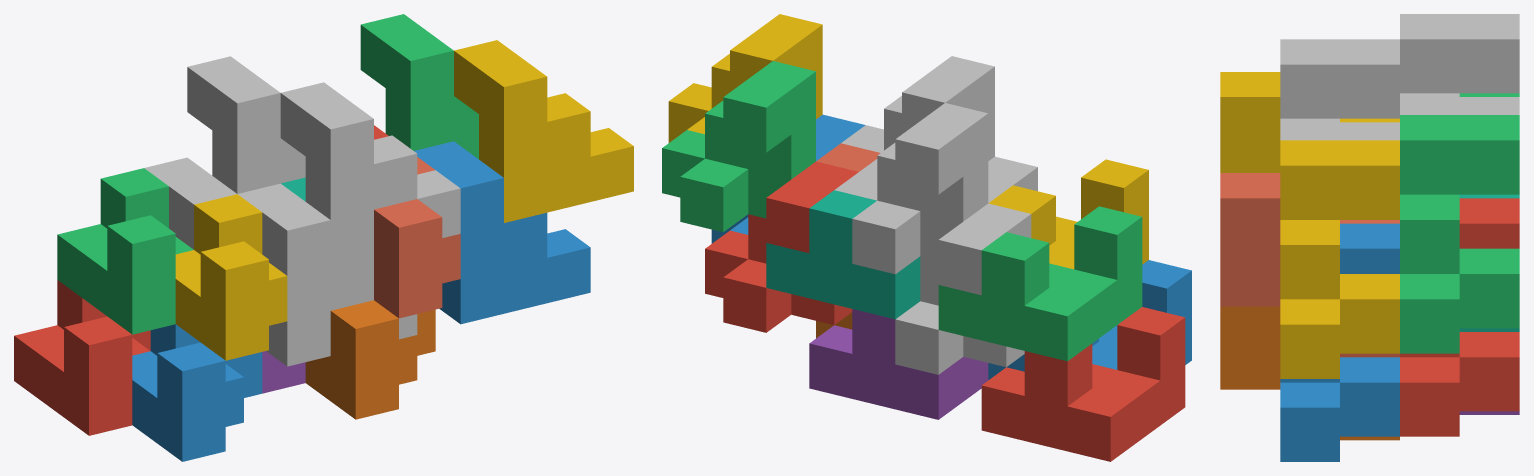
File: tiling.obj
The picture shows the model from 3 angles, left to right: view 1: azimuth 30°, elevation 25°; view 2: azimuth 150°, elevation 25°; view 3: azimuth 270°, elevation 25°; orthographic projection. The views are drawn at different scales.
Parts seen in each view (by area): view 1: copy_2_domain_8, copy_2_domain_4, copy_2_domain_6, copy_1_domain_3, copy_1_domain_4, copy_1_domain_1, copy_1_domain_2, copy_2_domain_2, copy_2_domain_7, copy_2_domain_3, copy_1_domain_6, copy_1_domain_8 (+2 smaller); view 2: copy_1_domain_3, copy_1_domain_1, copy_2_domain_7, copy_2_domain_3, copy_2_domain_5, copy_1_domain_5, copy_1_domain_7, copy_2_domain_1, copy_2_domain_8, copy_1_domain_4, copy_2_domain_4, copy_1_domain_2 (+3 smaller); view 3: copy_2_domain_7, copy_2_domain_8, copy_2_domain_5, copy_2_domain_6, copy_2_domain_4, copy_2_domain_3, copy_1_domain_8, copy_1_domain_4, copy_1_domain_6, copy_2_domain_2, copy_2_domain_1, copy_1_domain_7.
Part boxes in pixels (x1,y1,x2,y2): copy_2_domain_8: (454, 40, 633, 222); copy_2_domain_4: (280, 82, 460, 265); copy_2_domain_6: (414, 141, 590, 324); copy_1_domain_3: (57, 168, 193, 334); copy_1_domain_4: (175, 194, 287, 360); copy_1_domain_1: (14, 280, 150, 435); copy_1_domain_2: (132, 324, 262, 461); copy_2_domain_2: (237, 183, 417, 366); copy_2_domain_7: (360, 14, 478, 159); copy_2_domain_3: (187, 56, 305, 193); copy_1_domain_6: (305, 300, 435, 419); copy_1_domain_8: (374, 157, 460, 318); copy_1_domain_3: (938, 206, 1142, 361); copy_1_domain_1: (981, 307, 1185, 461); copy_2_domain_7: (662, 61, 815, 232); copy_2_domain_3: (834, 103, 988, 274); copy_2_domain_5: (705, 161, 858, 332); copy_1_domain_5: (809, 309, 988, 419); copy_1_domain_7: (766, 190, 920, 319); copy_2_domain_1: (895, 203, 1031, 374); copy_2_domain_8: (668, 14, 822, 142); copy_1_domain_4: (988, 159, 1148, 269); copy_2_domain_4: (841, 56, 994, 176); copy_1_domain_2: (988, 260, 1191, 379); copy_2_domain_7: (1400, 115, 1519, 353); copy_2_domain_8: (1280, 140, 1399, 378); copy_2_domain_5: (1400, 198, 1519, 436); copy_2_domain_6: (1280, 223, 1399, 461); copy_2_domain_4: (1280, 39, 1399, 140); copy_2_domain_3: (1400, 14, 1519, 114); copy_1_domain_8: (1220, 173, 1399, 357); copy_1_domain_4: (1220, 72, 1399, 172); copy_1_domain_6: (1220, 306, 1399, 440); copy_2_domain_2: (1340, 122, 1399, 140); copy_2_domain_1: (1459, 97, 1519, 114); copy_1_domain_7: (1459, 194, 1519, 331).
Size of the model in its own units: 12 by 6 by 5.
